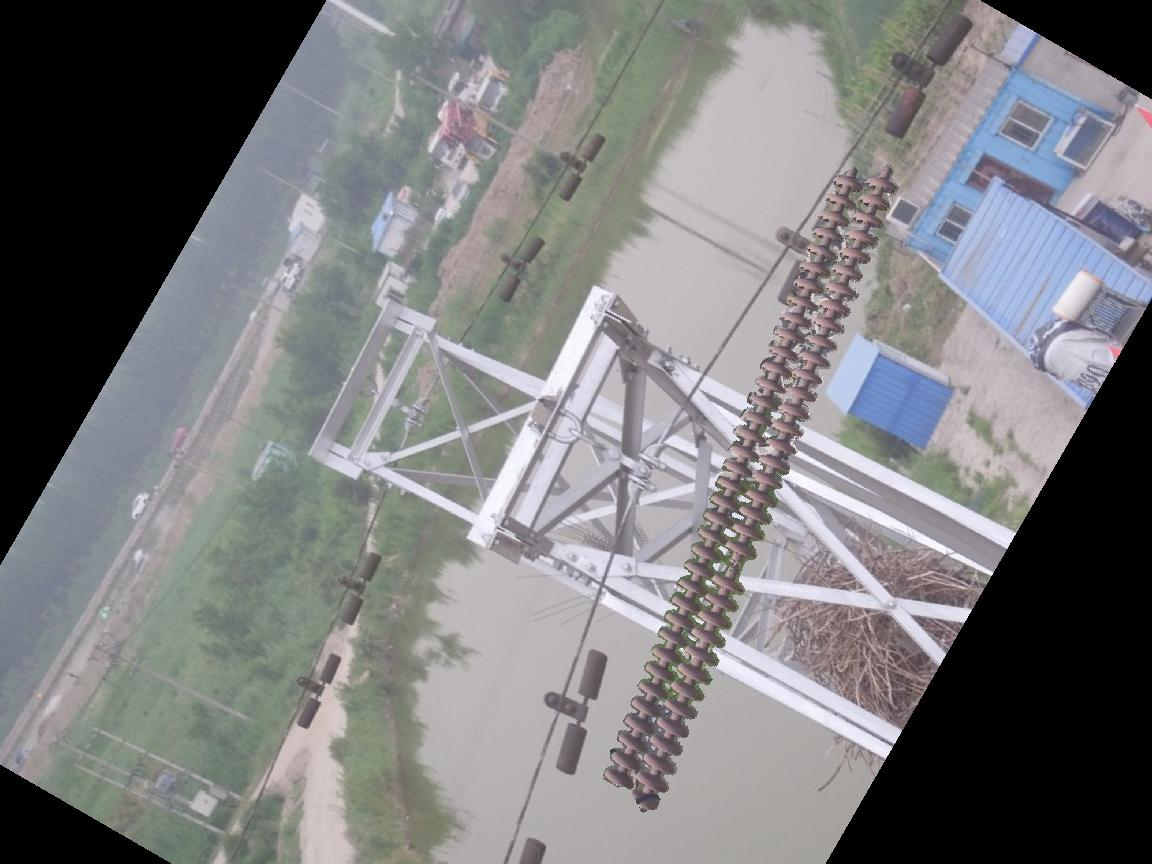insulator: (600, 160, 900, 814)
insulator_stringdrop: (711, 535, 759, 599)
